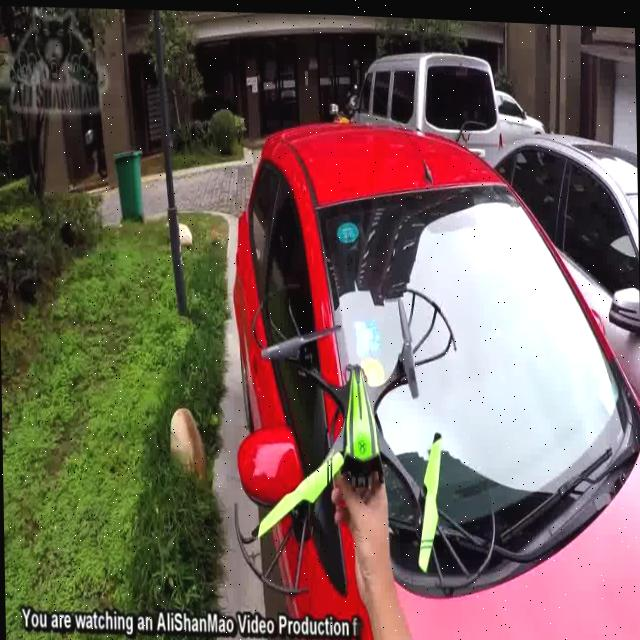drone: (213, 253, 512, 613)
